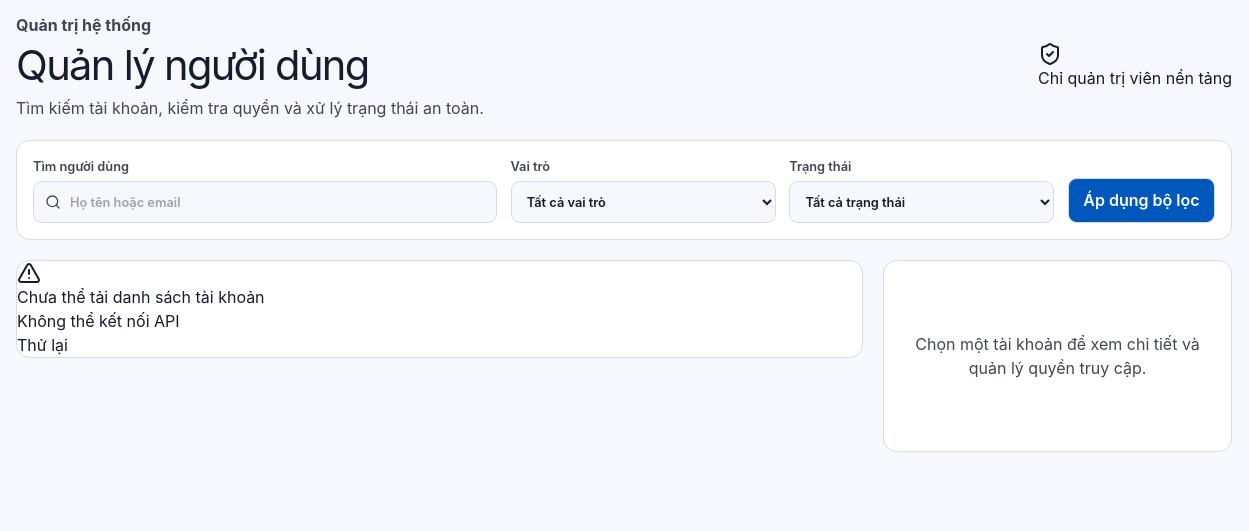
Test: AdminUserManagementPage › shows API errors and retries the same query
The width and height of the screenshot is (1249, 531).
Check: the message shows "Không thể kết nối API", box [17, 311, 180, 331]
Click the button "Thử lại".
click(42, 345)  # box [17, 333, 68, 357]
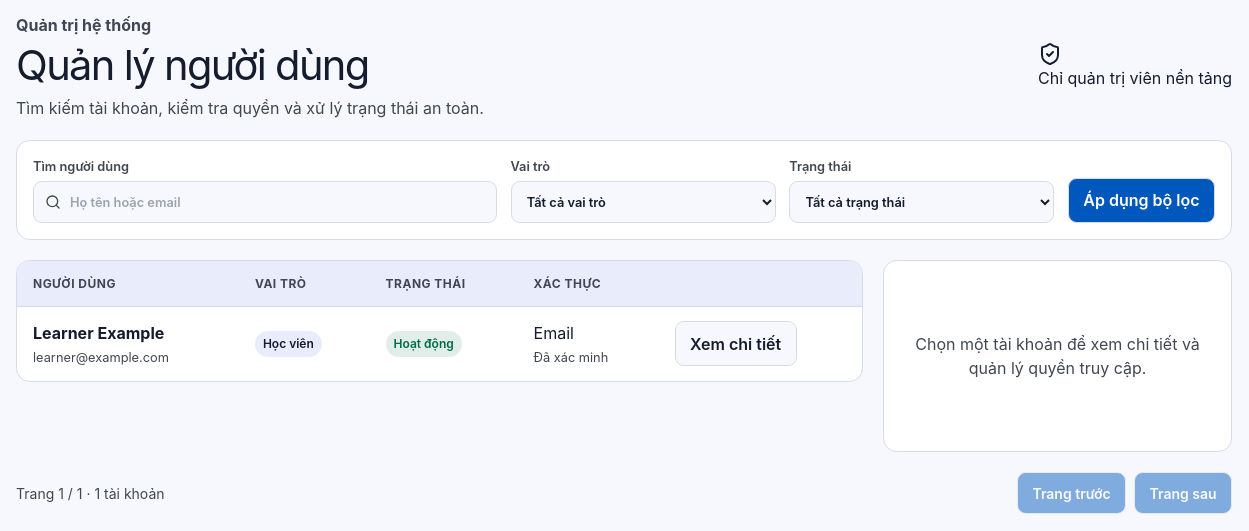
Check: the text "Learner Example" is shown, box [33, 323, 164, 343]
